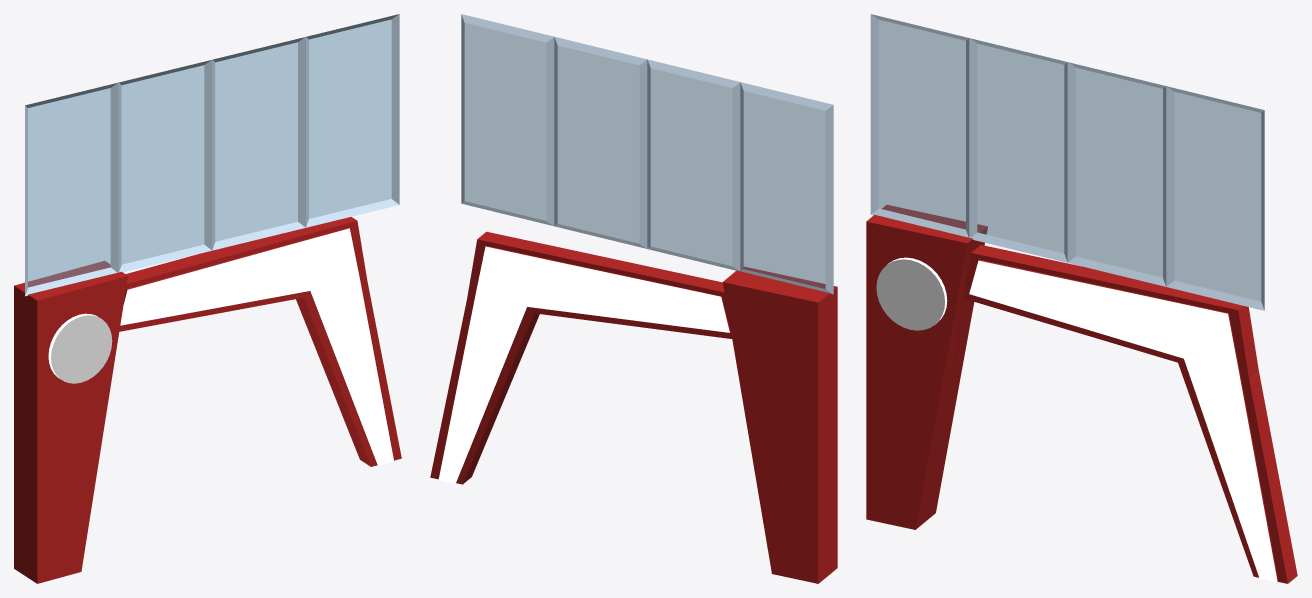
The model's file is 3doors.glb.
The picture shows the model from 3 angles, left to right: view 1: azimuth 30°, elevation 25°; view 2: azimuth 150°, elevation 25°; view 3: azimuth 330°, elevation 25°; orthographic projection. The views are drawn at different scales.
Visible parts, largest first — view 1: Entr_Windows.008, Entr_Portal_C; view 2: Entr_Windows.008, Entr_Portal_C; view 3: Entr_Windows.008, Entr_Portal_C.
Part boxes in pixels (left/top/right/bottom): Entr_Windows.008: left=25, top=14, right=399, bottom=296; Entr_Portal_C: left=14, top=217, right=401, bottom=583; Entr_Windows.008: left=461, top=14, right=833, bottom=294; Entr_Portal_C: left=430, top=231, right=837, bottom=583; Entr_Windows.008: left=870, top=14, right=1264, bottom=310; Entr_Portal_C: left=866, top=205, right=1297, bottom=583.
Bounding box in the file's own units: 9.25 × 10.81 × 1.28.
5 materials, 1 textured.
